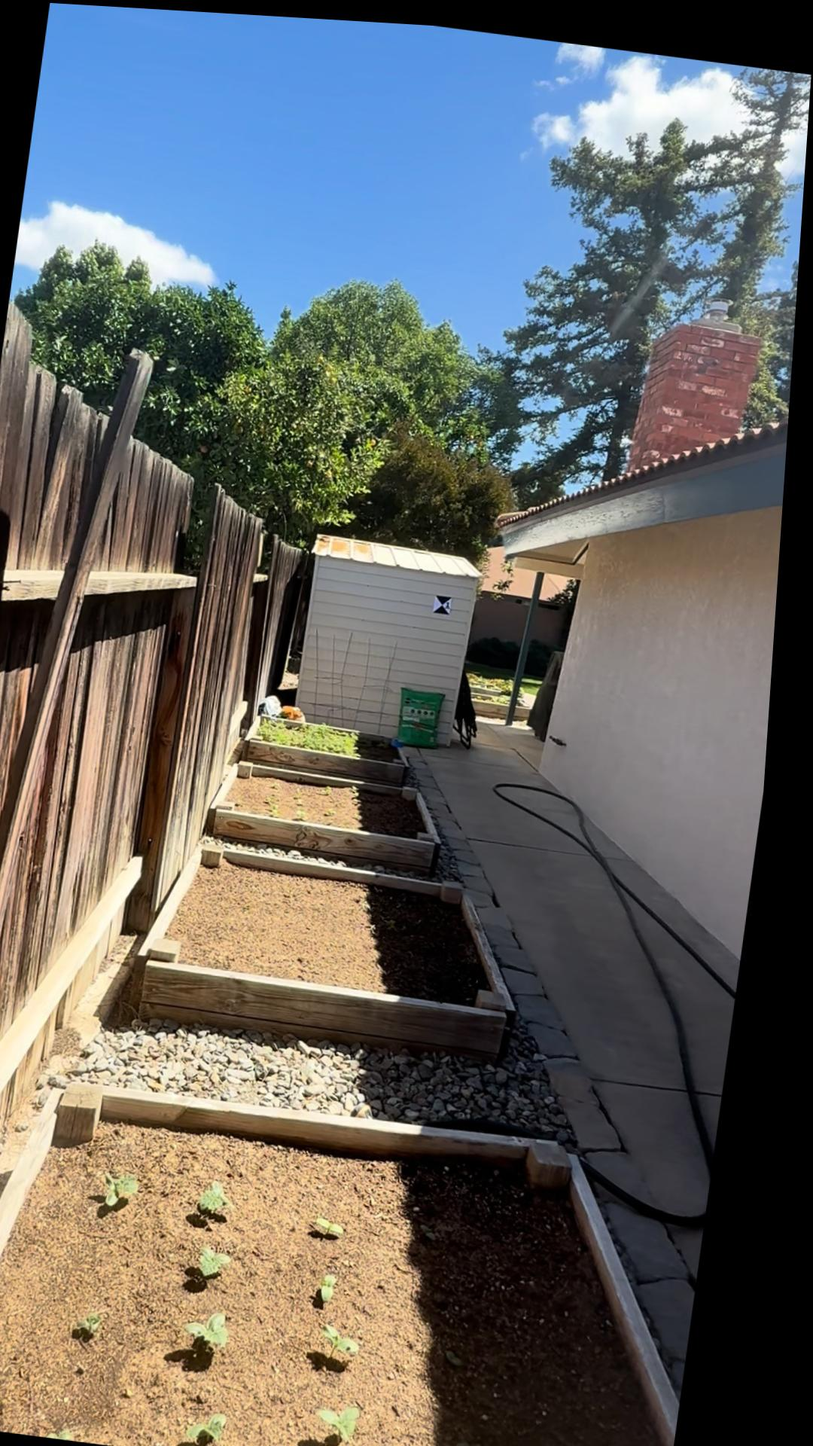target1: (432, 593, 455, 617)
